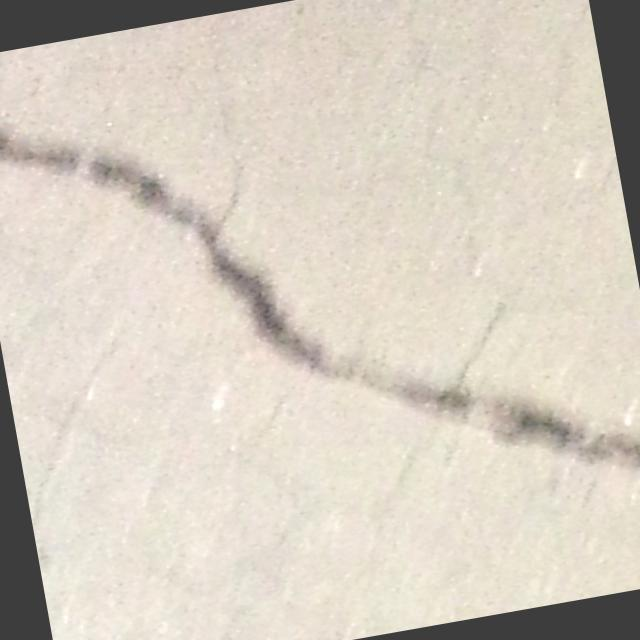crack: (243, 254, 640, 544), (0, 49, 281, 365)
